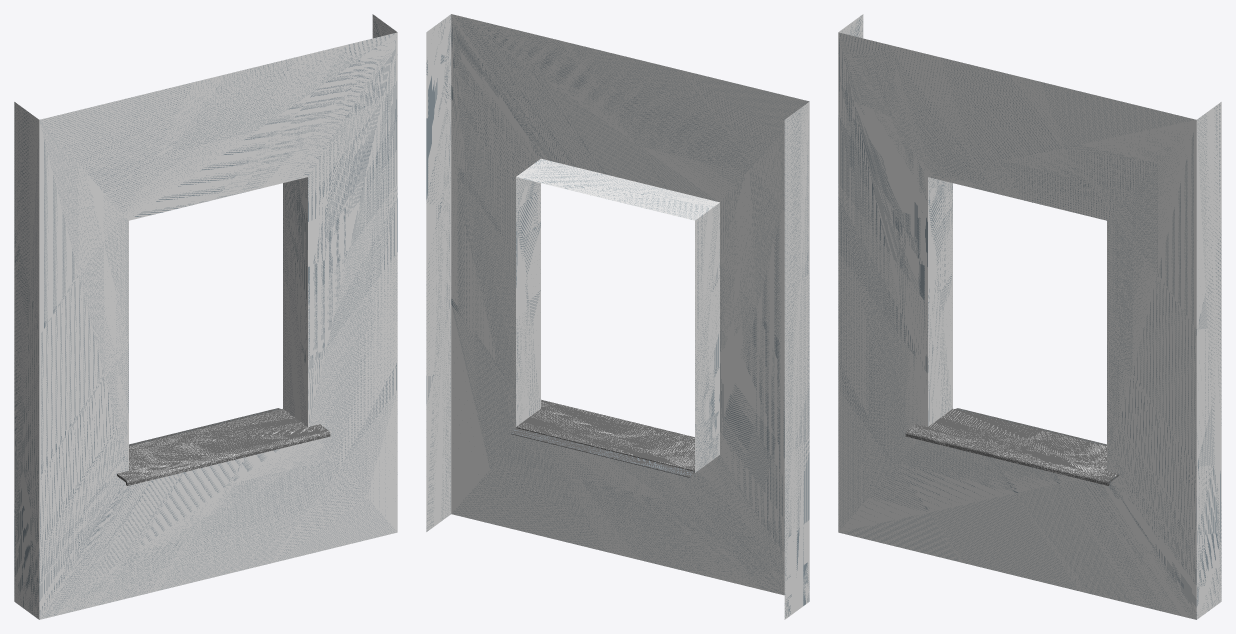
Rendered from WindowBlock_os_plinth_[300x400]_150x200x[100].dae.
The picture shows the model from 3 angles, left to right: view 1: azimuth 30°, elevation 25°; view 2: azimuth 150°, elevation 25°; view 3: azimuth 330°, elevation 25°; orthographic projection.
Visible parts, largest first — view 1: group_2 (×2), group_1; view 2: group_2 (×2), group_1 (×2); view 3: group_2 (×2), group_1.
Part boxes in pixels (bbox=[...]): group_2 (×2): bbox=[14, 14, 397, 619]; group_1: bbox=[117, 409, 330, 485]; group_2 (×2): bbox=[426, 14, 809, 619]; group_1 (×2): bbox=[511, 399, 694, 477]; group_2 (×2): bbox=[838, 14, 1221, 619]; group_1: bbox=[905, 409, 1118, 485].
Bounding box in the file's own units: 118 × 23.03 × 157.
